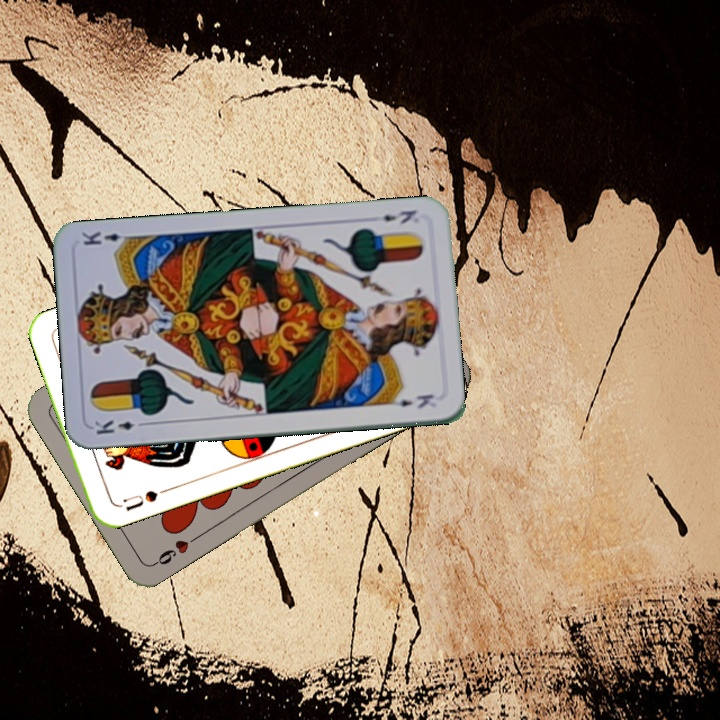EK: (90, 416, 150, 437), (378, 206, 419, 227)
H9: (149, 531, 202, 568)
SU: (113, 484, 171, 514)
